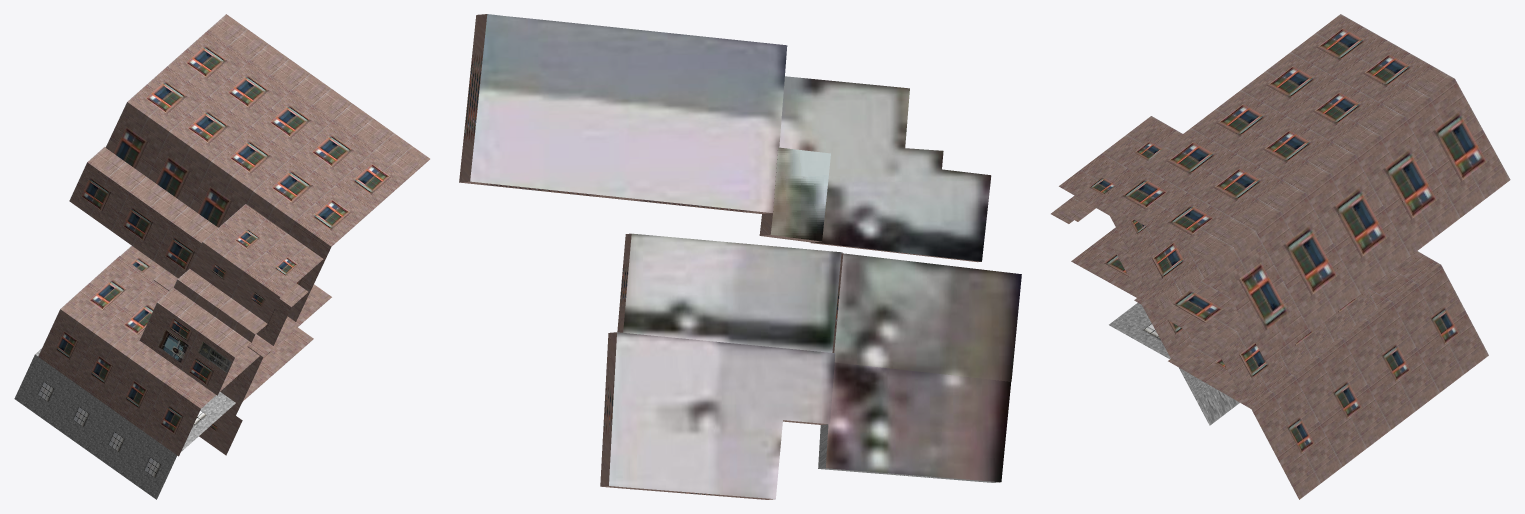
3 renders of one model, left to right at view 1: azimuth 30°, elevation 25°; view 2: azimuth 150°, elevation 25°; view 3: azimuth 270°, elevation 25°, orthographic. The views are drawn at different scales.
Size of the model in its own units: 31.25 by 28.14 by 26.88.
Materials: 18 (18 with a texture image).
